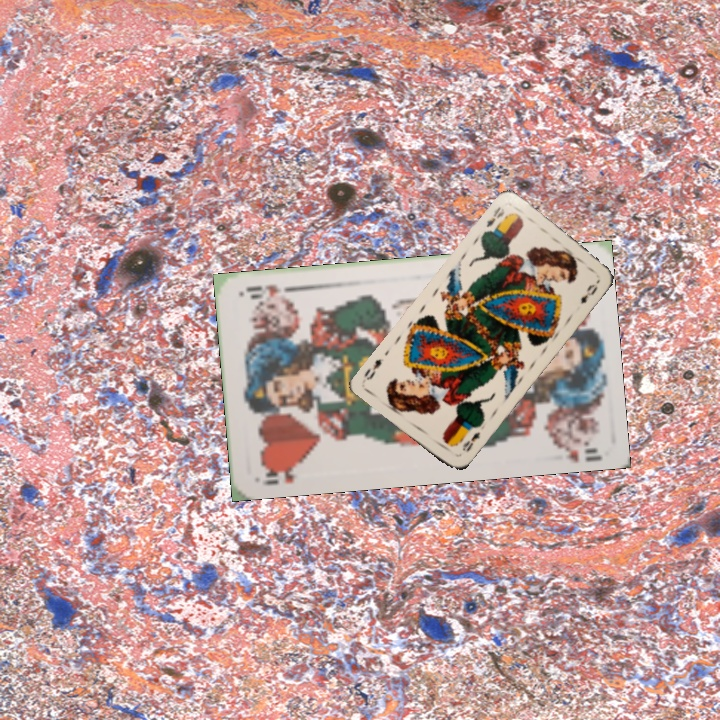EO: (482, 202, 507, 230), (458, 428, 483, 454)
HO: (256, 460, 299, 488)
